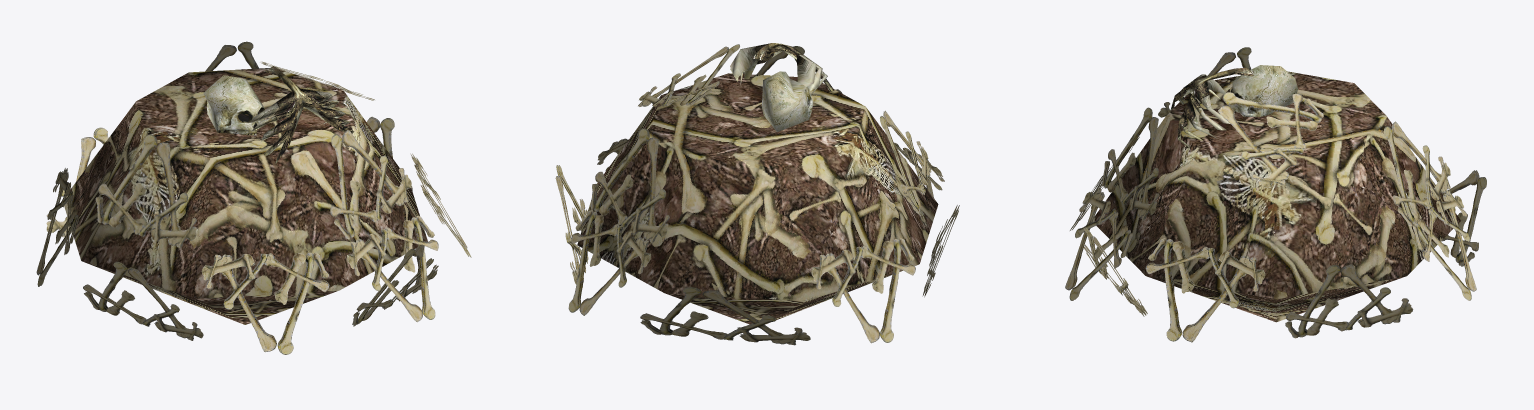
Rendered from poi_all_lair_bones_l2.fbx.
The picture shows the model from 3 angles, left to right: view 1: azimuth 30°, elevation 25°; view 2: azimuth 150°, elevation 25°; view 3: azimuth 270°, elevation 25°; orthographic projection. The views are drawn at different scales.
Visible parts, largest first — view 1: mesh_node; view 2: mesh_node; view 3: mesh_node.
Part boxes in pixels (box(x1,y1,x2,y2)): mesh_node: box(36, 41, 471, 354); mesh_node: box(555, 43, 959, 345); mesh_node: box(1065, 47, 1486, 342).
Size of the model in its own units: 1.65 by 1.09 by 1.75.
